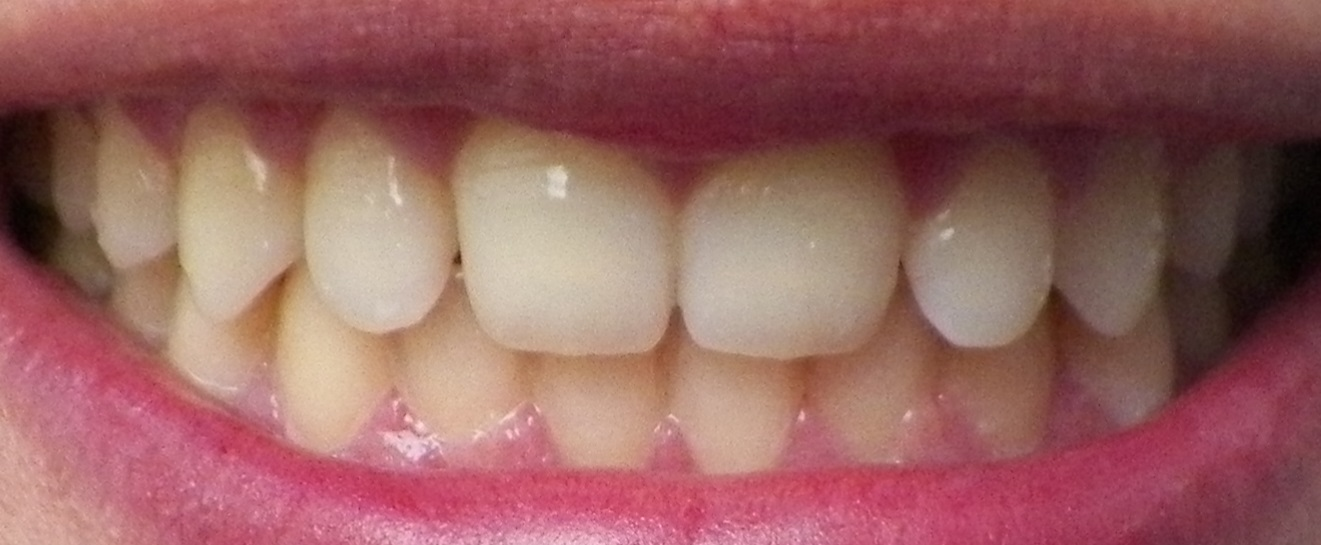boca: (38, 72, 1302, 475)
